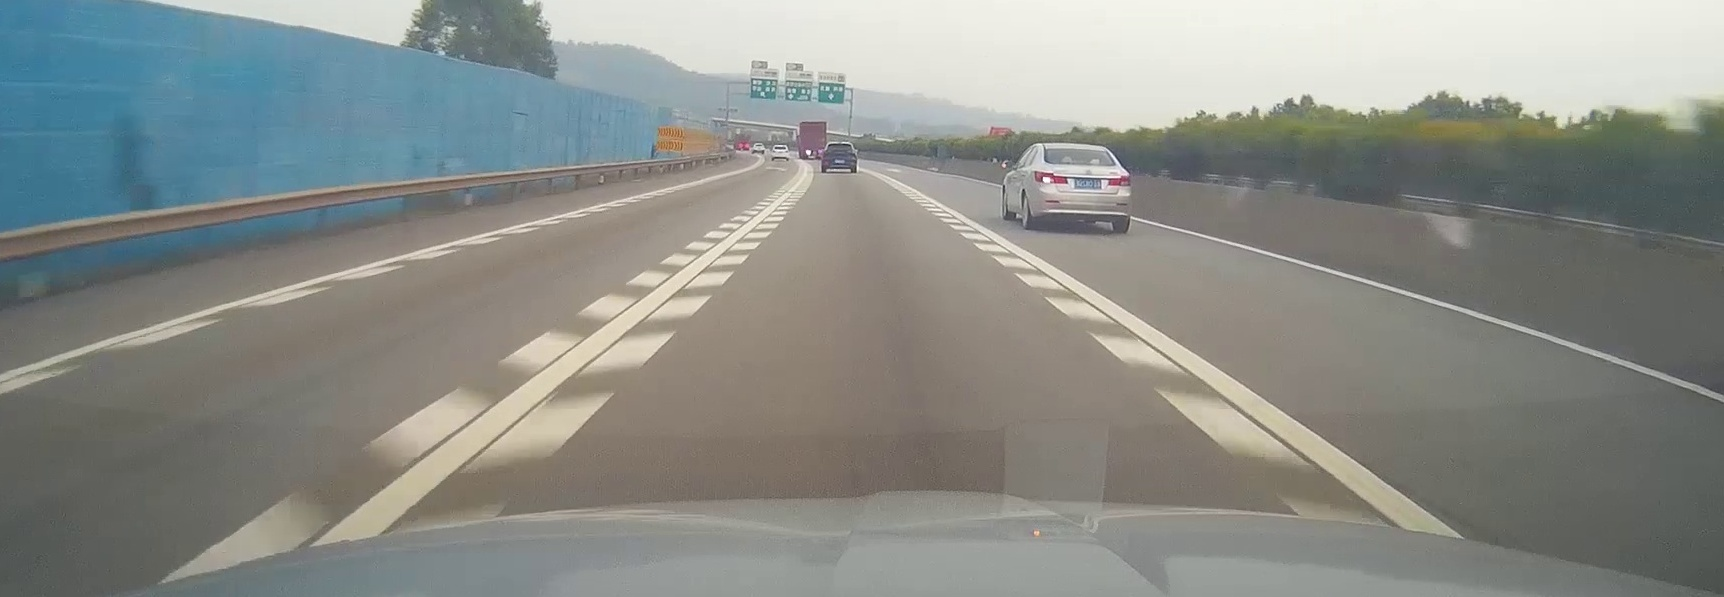L_light: (1034, 172, 1068, 184)
R_light: (1108, 175, 1130, 185)
T_light: (1071, 150, 1085, 151)
day-left: (1030, 145, 1131, 233)
